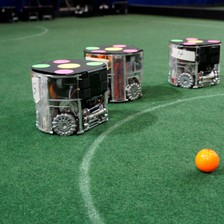ball: (192, 146, 220, 174)
robot: (28, 57, 111, 138), (165, 35, 221, 89), (105, 42, 146, 105)
